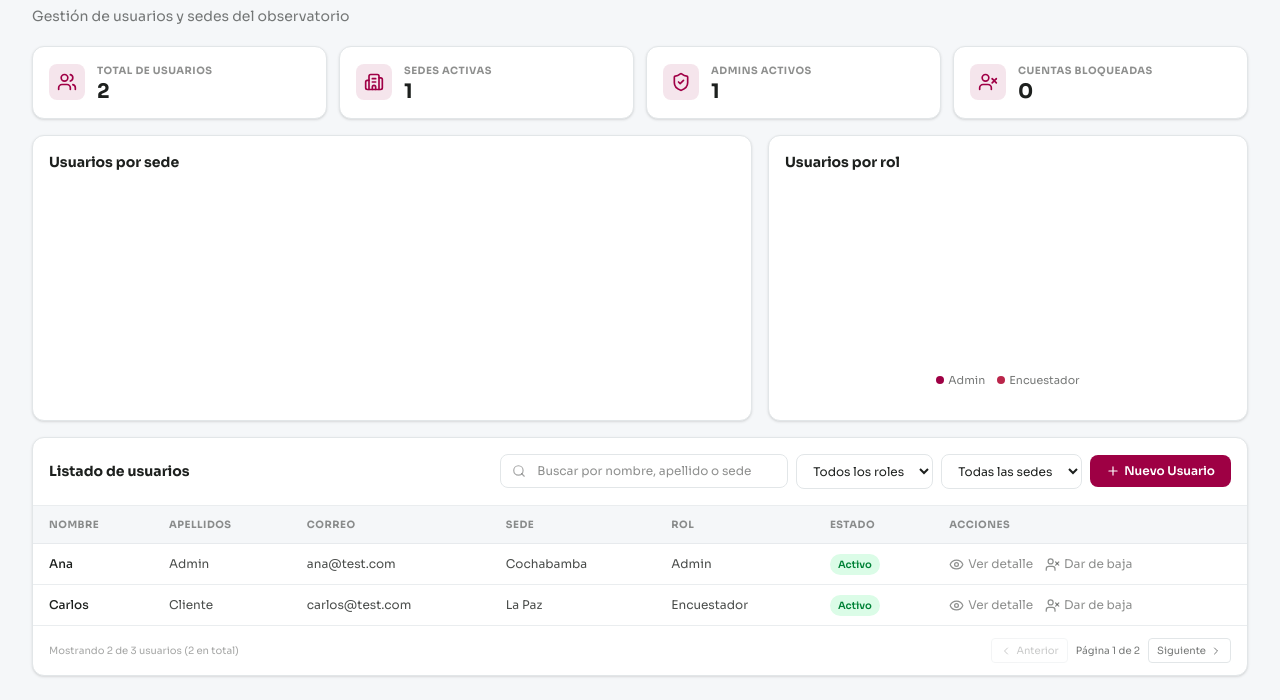
Test: UsuariosPage — paginación (US8) › "Siguiente" pide la página 2 al servidor
(page scrolled)
Expected: the text "Ana" is shown, x1=33 y1=544 x2=153 y2=585
Click the button with aria-label "Página siguiente" at (1190, 651), box x1=1148 y1=638 x2=1231 y2=663
(page scrolled)
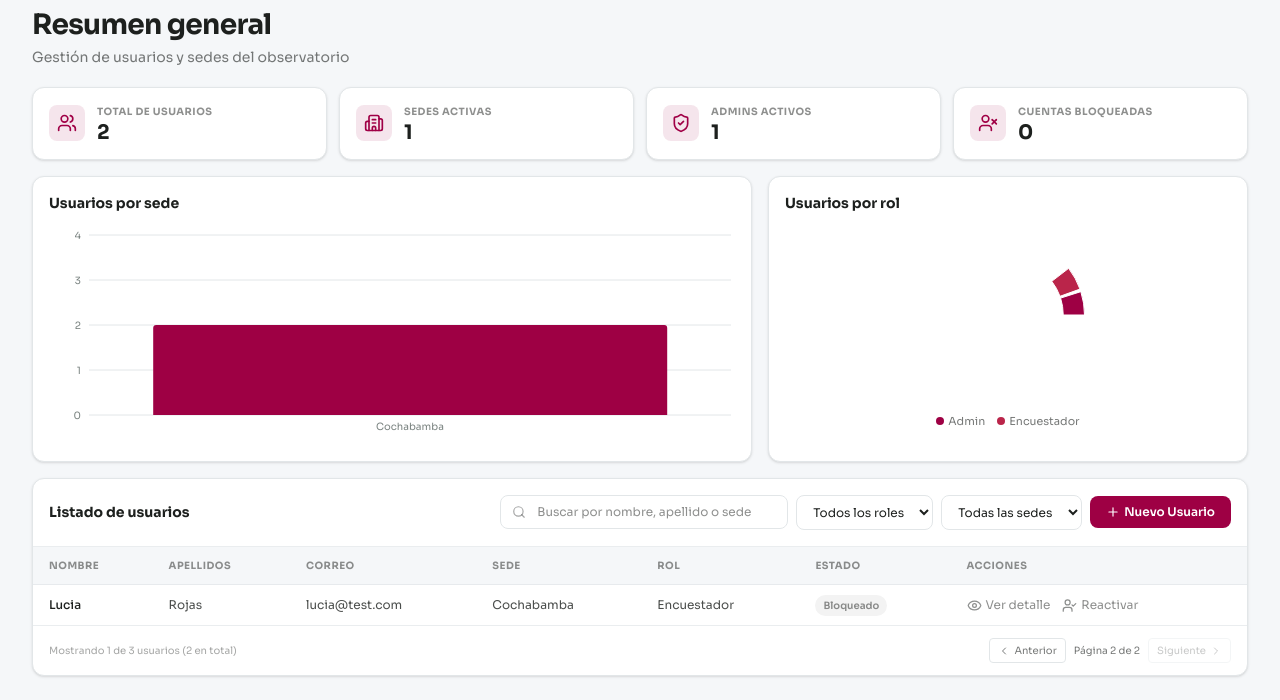
Now the text "Lucia" is shown, box x1=33 y1=585 x2=153 y2=625
Now the text "Ana" is gone
Now the button with aria-label "Página siguiente" is disabled, box x1=1148 y1=638 x2=1231 y2=663
